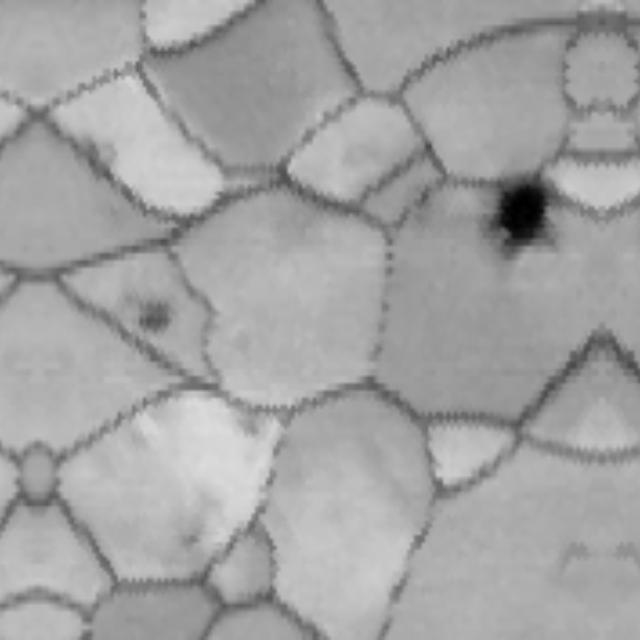good_void: (479, 174, 571, 258), (161, 484, 225, 563), (62, 128, 126, 187), (124, 291, 180, 342), (223, 403, 264, 442)
